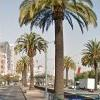Tree: (10, 1, 100, 83)
